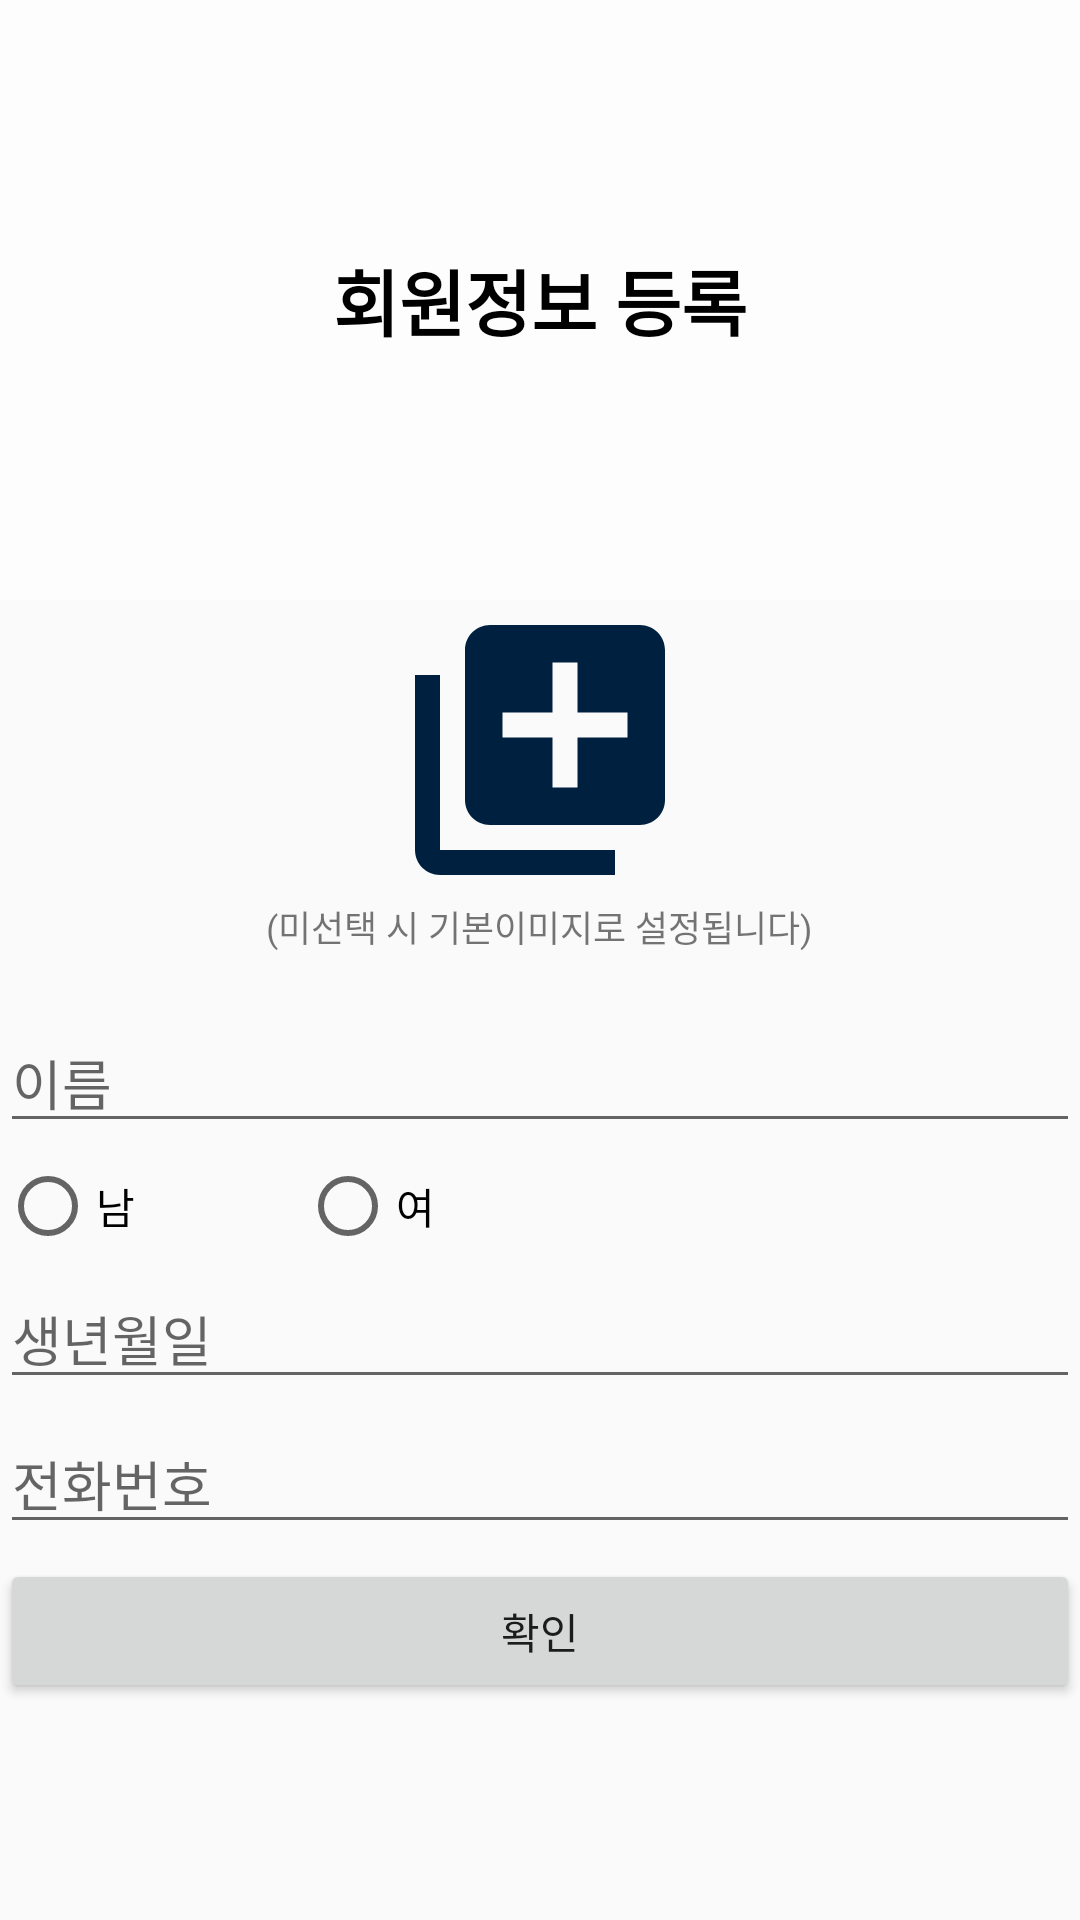

Screen size 1080 × 1920. Icon name, then its box in pixels as (x1, y1, x2, y2):
add to photos: (415, 625, 665, 875)
